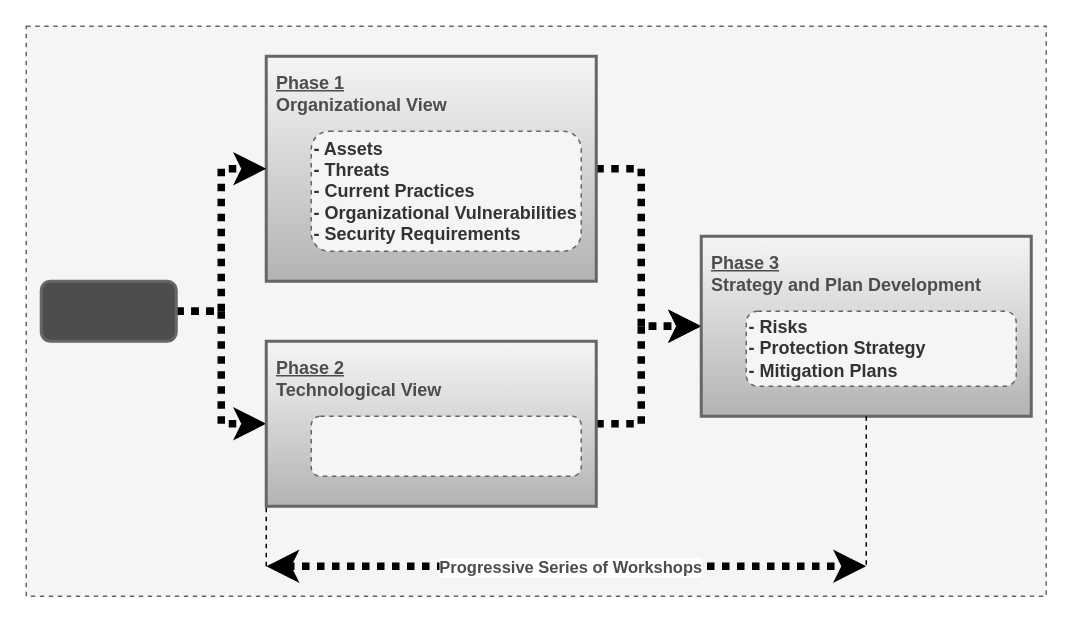
Some shapes in this 1073 by 623 pixel diagram are drawn without their labels. The shapes that lost their labels are listed below. From the top down, each one's box as (x1, y1, x2, y2) in pixels, then its label:
(39, 279, 177, 342): Preparation
(310, 415, 581, 476): - Key Components - Technical Vulnerabilities
